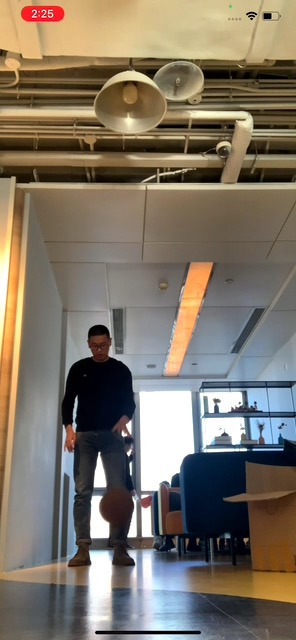ball: (99, 488, 135, 523)
